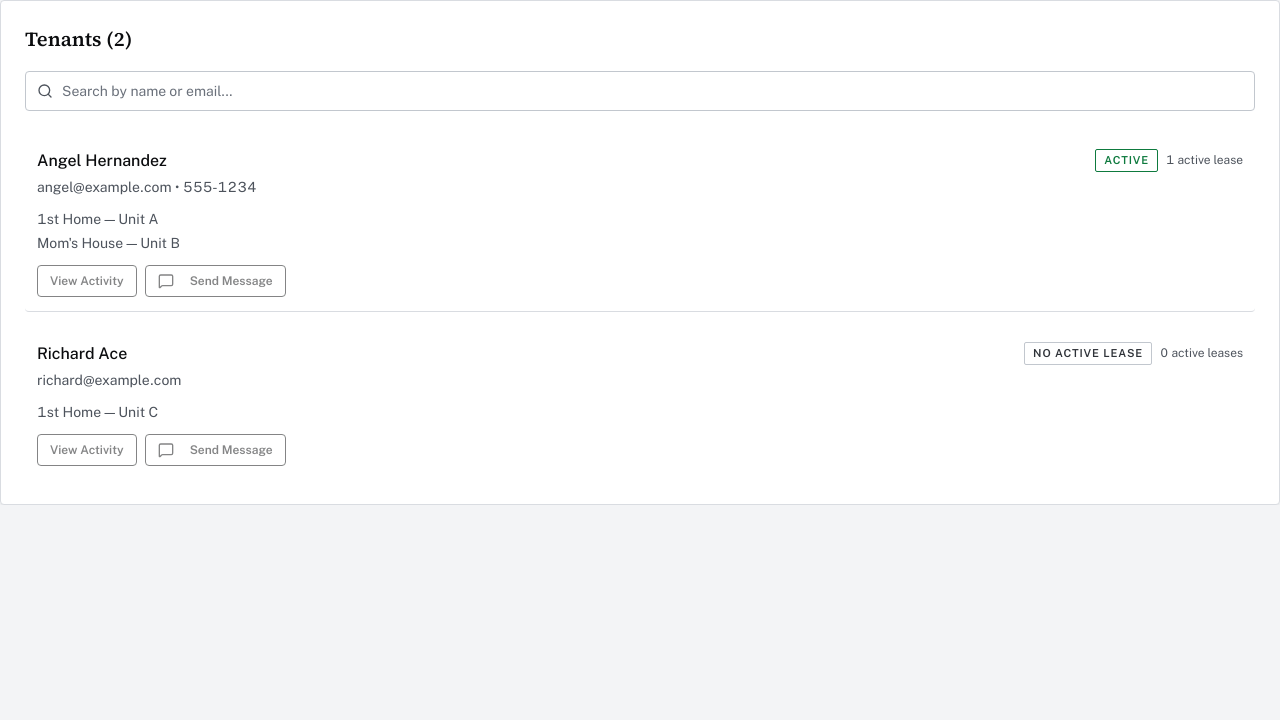
Test case: TenantsSection › filters tenants by email
The image size is (1280, 720).
Type "richard@example.com" into the field labelled "Search by name or email".
click(640, 91); type("richard@example.com")  # box 25,71 -> 1255,111
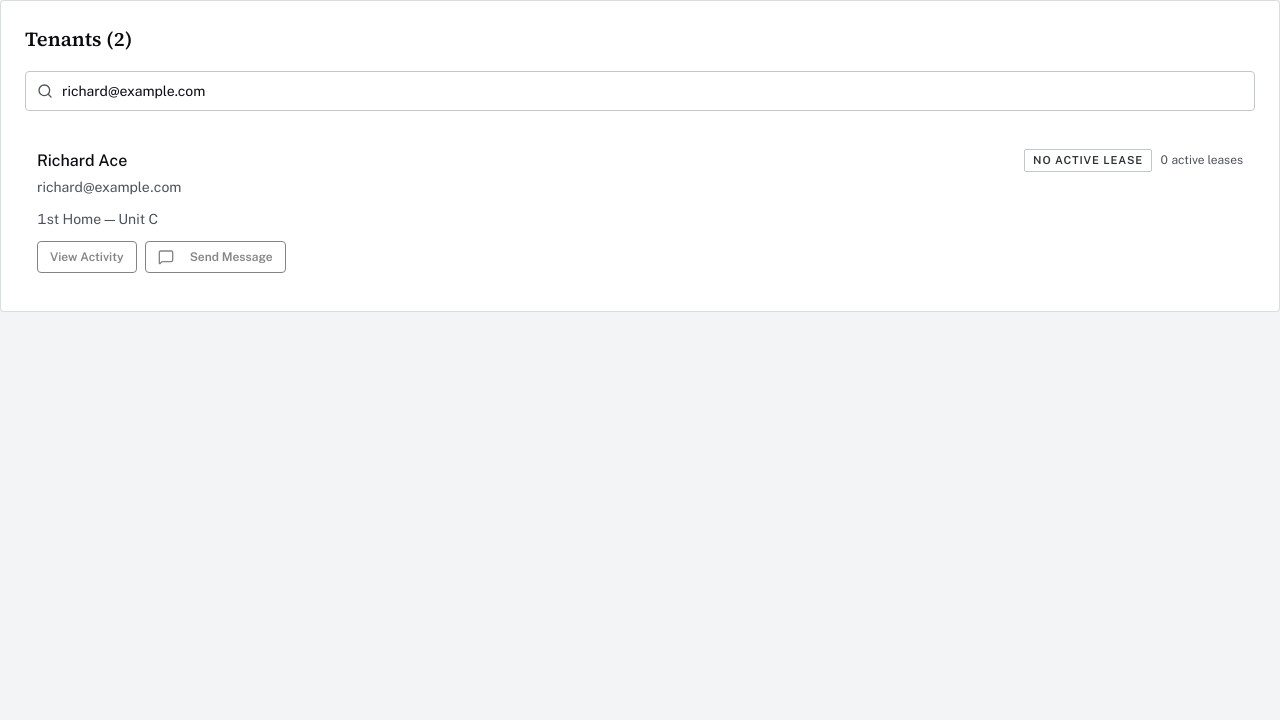
Expected: the text "Richard Ace" is shown, 37,151 -> 127,170
Expected: the text "Angel Hernandez" is gone
